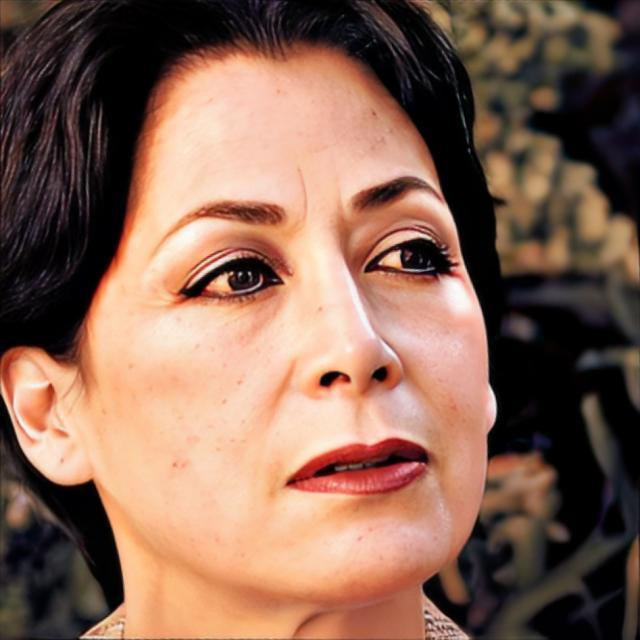neutral: (83, 28, 490, 610)
